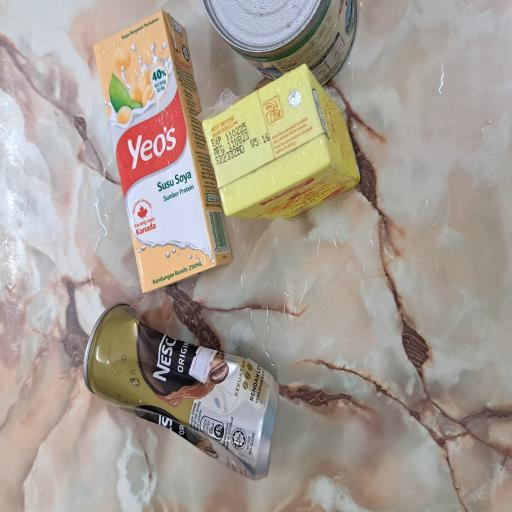can: (23, 106, 159, 374), (319, 270, 384, 479)
drink carton: (165, 125, 377, 311), (218, 270, 336, 482)
